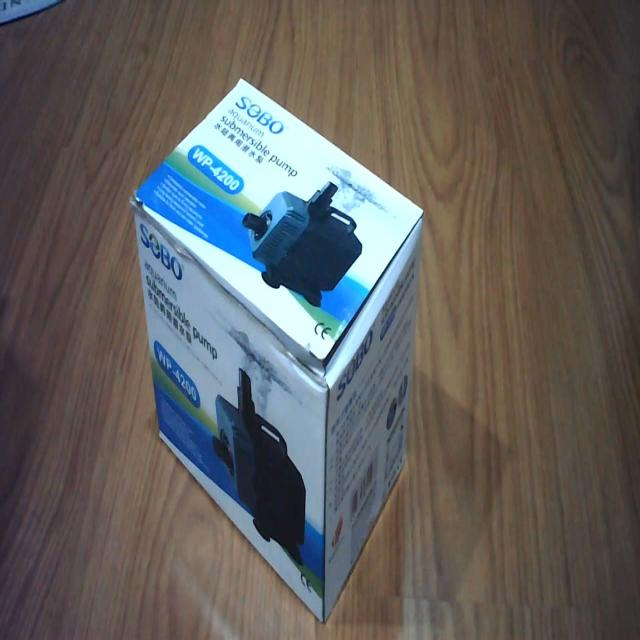SOBO_WP_4200: (126, 67, 425, 628)
